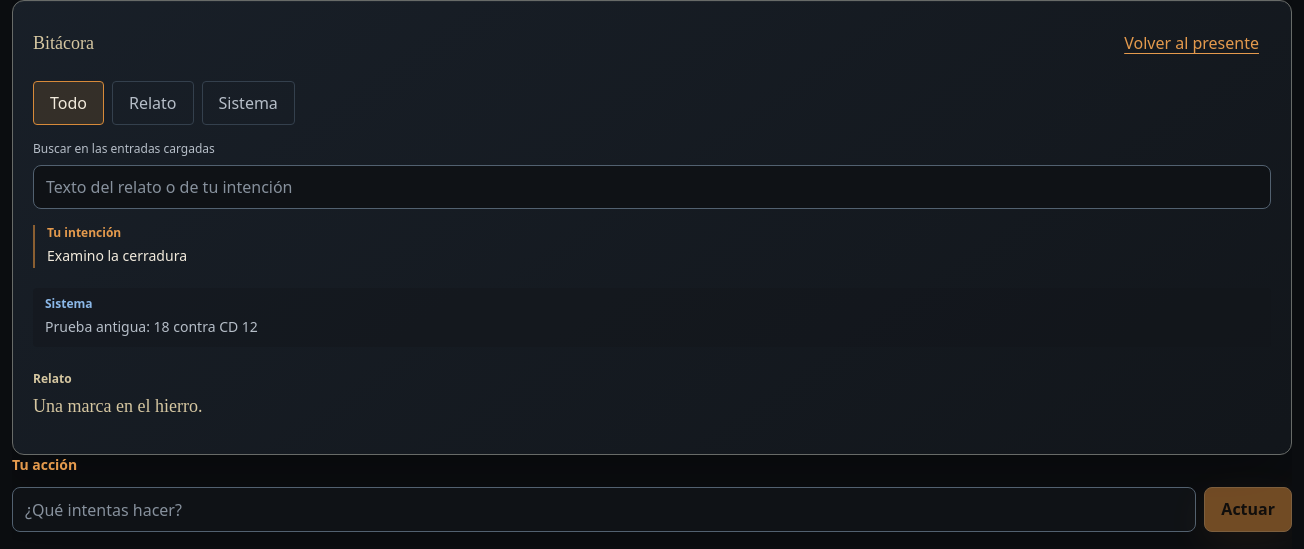
Test case: campaign story through the real action stream › filters loaded entries without manufacturing events from historical system prose
This screenshot has width=1304, height=549.
Click the button "Relato" at [153, 103], box top-left (112, 81), bottom-right (194, 125)
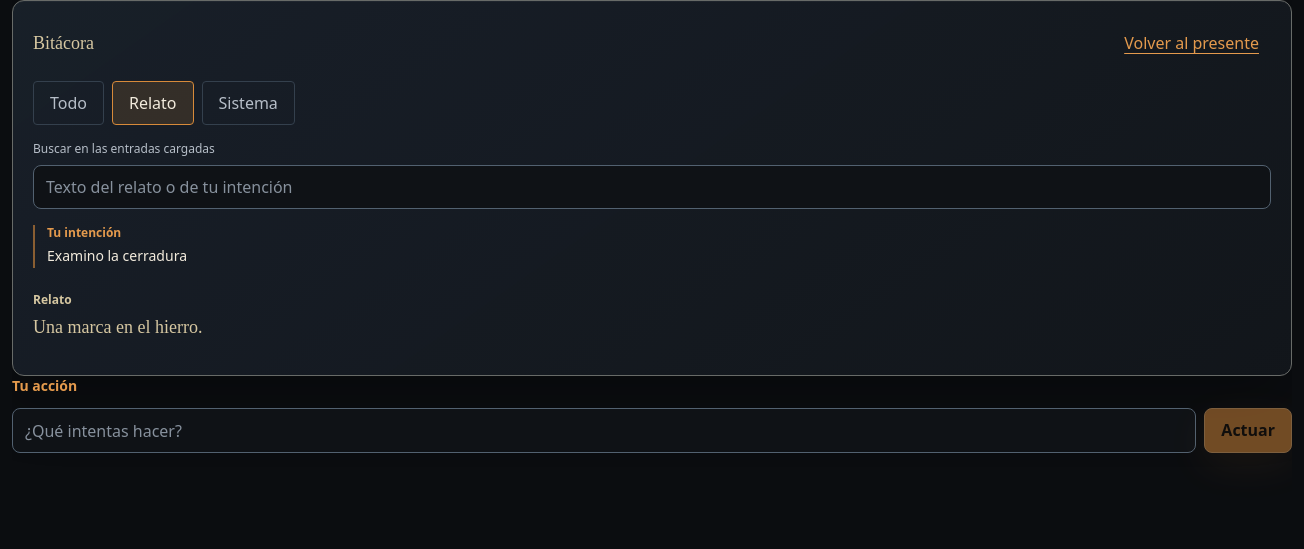
Expected: the text "Una marca en el hierro." is shown, top-left (33, 317), bottom-right (202, 337)
Now the text "Prueba antigua: 18 contra CD 12" is gone
Click the button "Sistema" at [248, 103], box top-left (202, 81), bottom-right (295, 125)
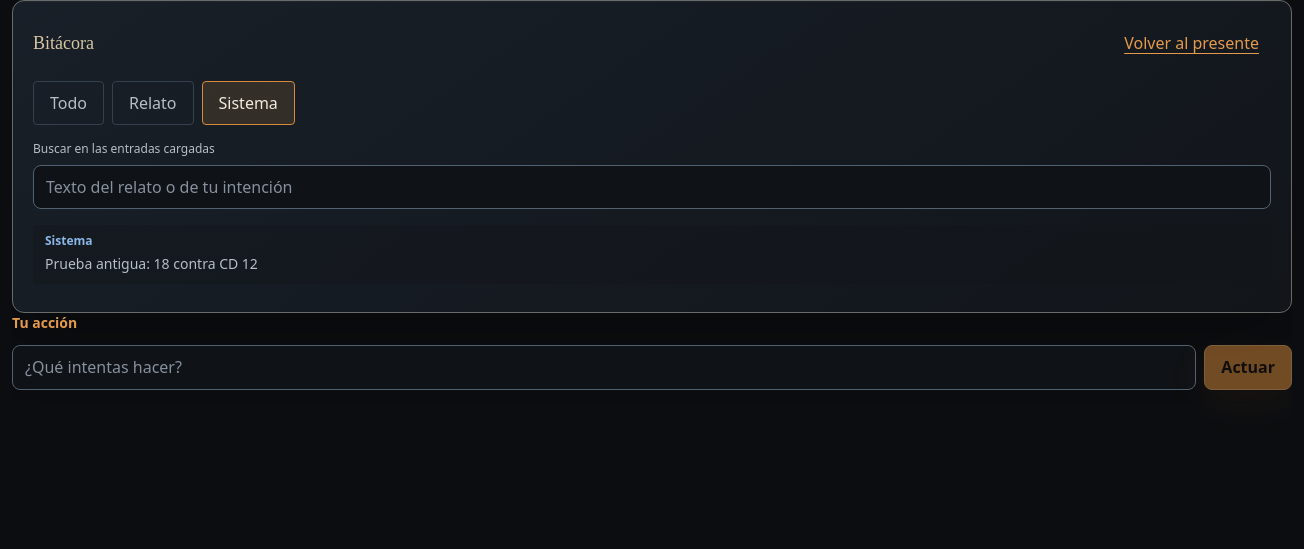
Now the text "Prueba antigua: 18 contra CD 12" is shown, box top-left (45, 254), bottom-right (258, 273)
Now the text "Una marca en el hierro." is gone
Click the button "Volver al presente" at [1192, 43], box top-left (1112, 21), bottom-right (1271, 65)
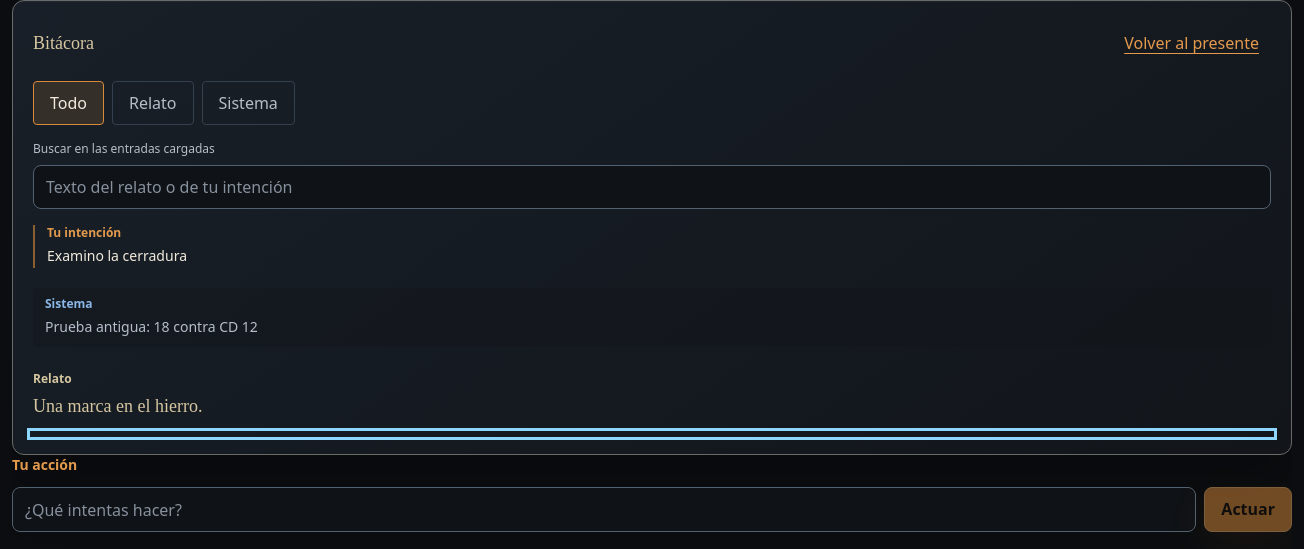
Now the text "Examino la cerradura" is shown, box top-left (47, 246), bottom-right (187, 265)
